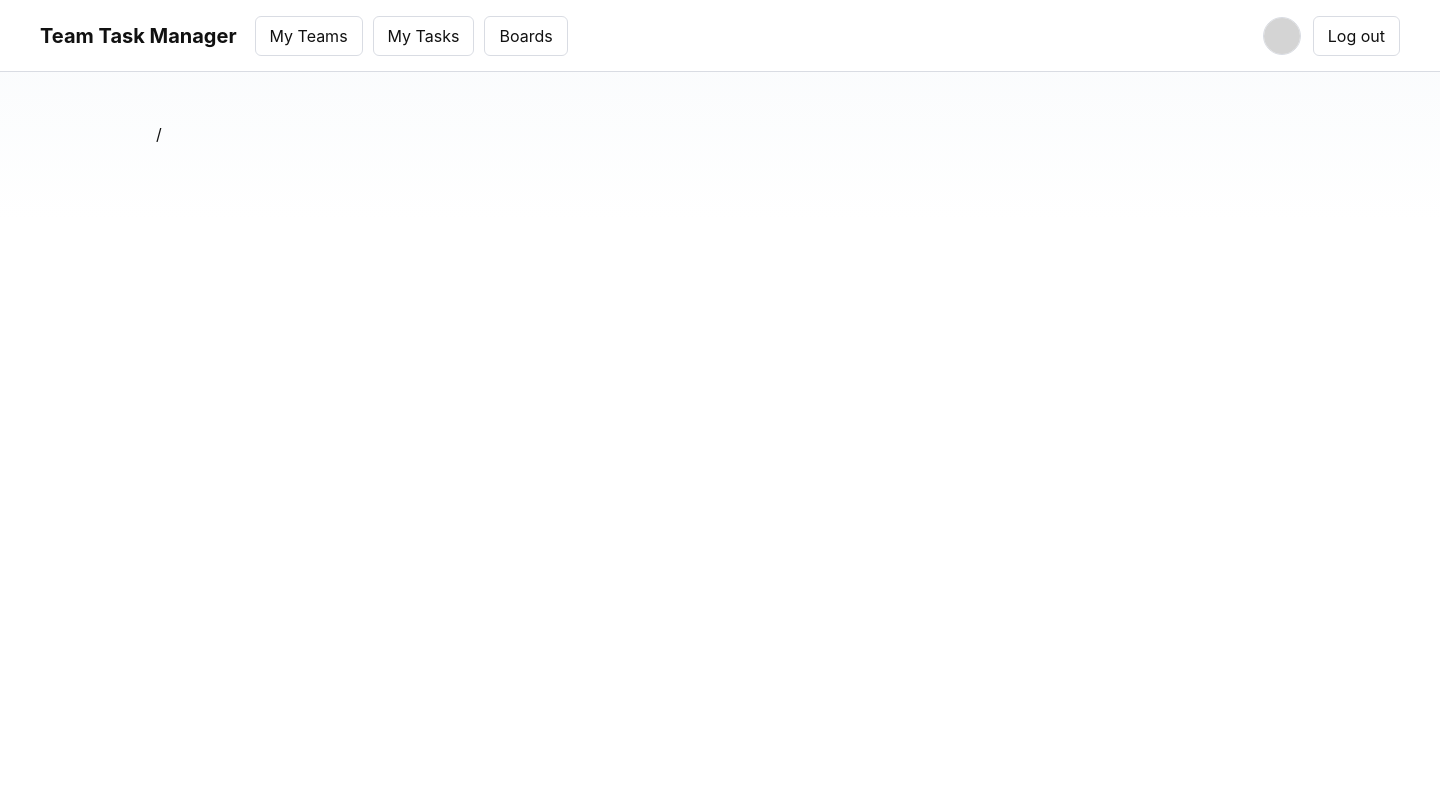
the boards menu closes when the user clicks outside it
Click the button "Boards". click: [526, 36]
box: [484, 16, 568, 56]
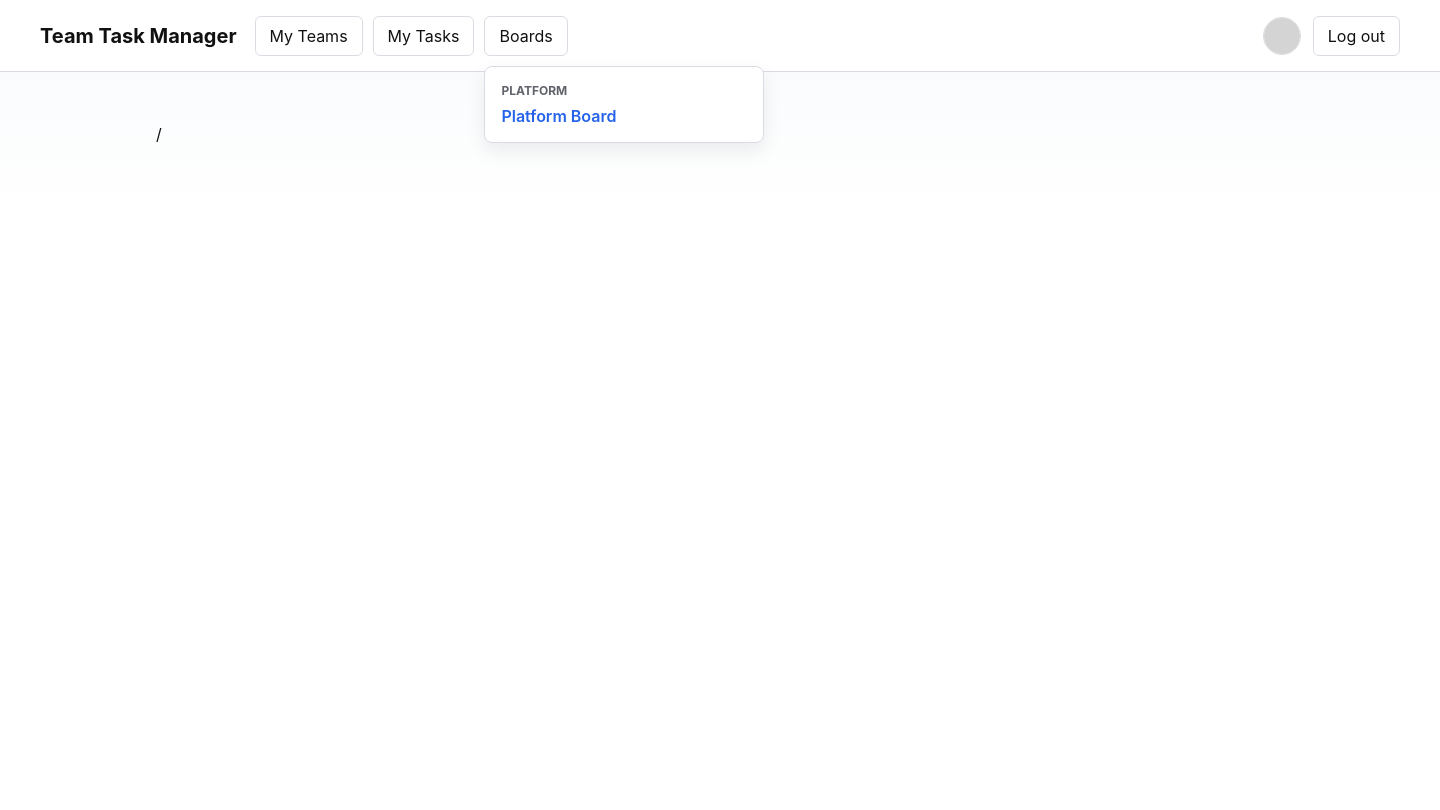
Expected: the link "Platform Board" is shown, [501, 106, 616, 126]
Press the mouse on the element that starts with "Team Task Manager" at [720, 405], box [0, 0, 1439, 809]
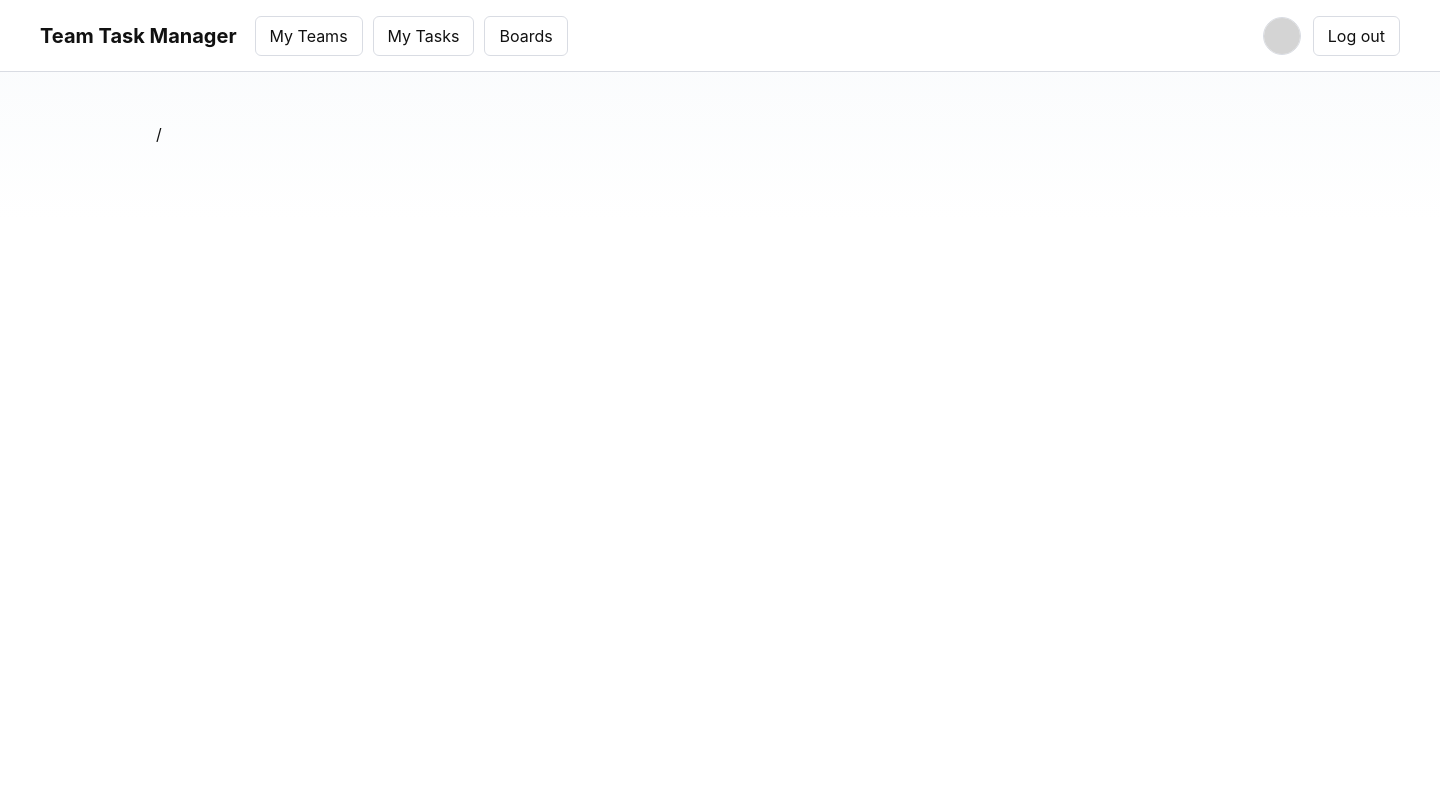
Expected: the link "Platform Board" is gone
